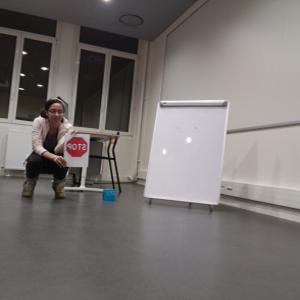stop: (67, 136, 88, 157)
